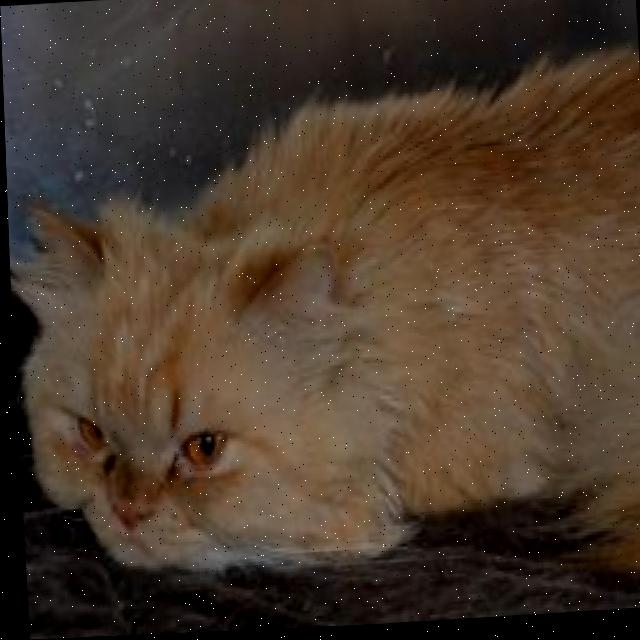Persian: (2, 45, 640, 612)
